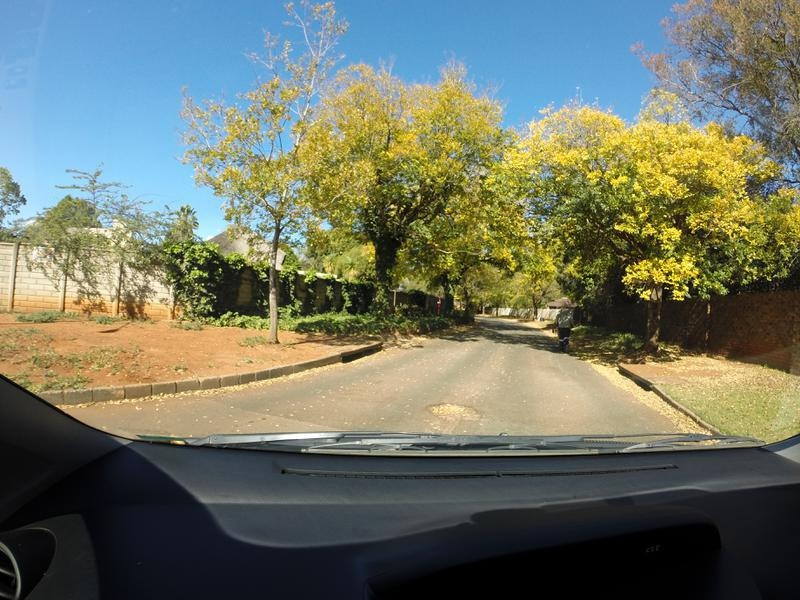pothole: (426, 406, 481, 420)
